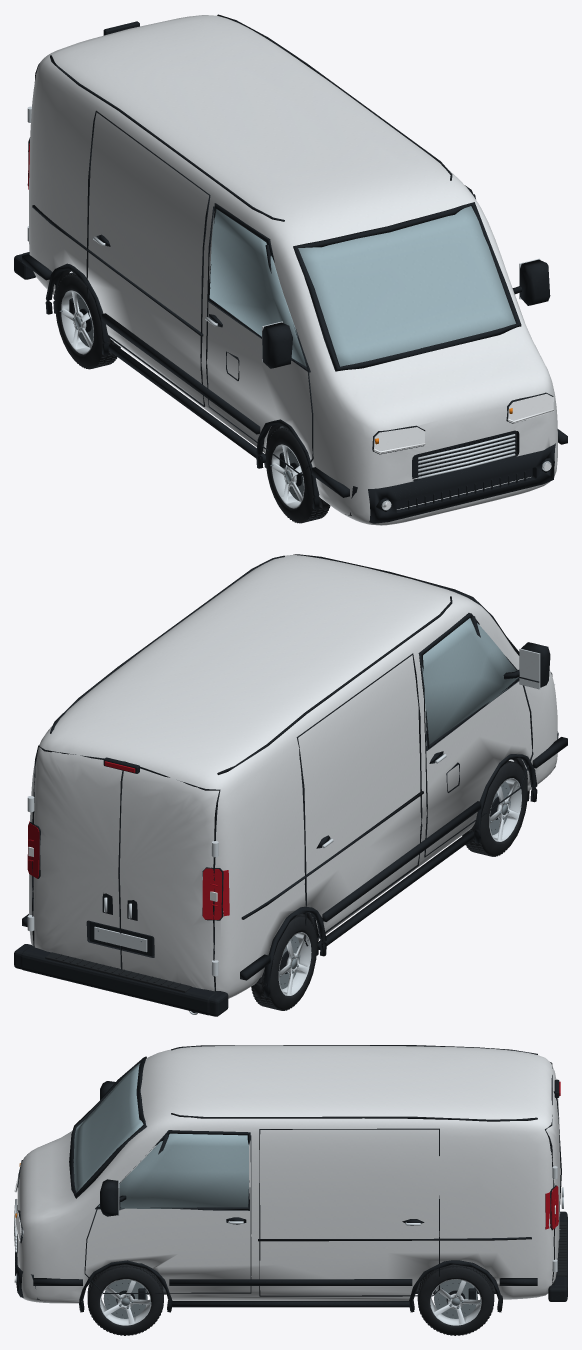
The model's file is van-lod0.glb.
3 views of the same model, one above another, from view 1: azimuth 30°, elevation 25°; view 2: azimuth 150°, elevation 25°; view 3: azimuth 270°, elevation 25° (orthographic). The views are drawn at different scales.
Parts seen in each view (by area): view 1: body_paint, body_glass.001, body_black.001, wheelpart_rubber.001 (×2), wheelpart_chrome (×2), body_chrome, body_clearlens; view 2: body_paint, body_black.001, body_glass.001, wheelpart_rubber.001 (×2), wheelpart_chrome (×2), body_chrome, body_redlens, body_rubber.001; view 3: body_paint, body_black.001, body_glass.001, wheelpart_rubber.001 (×2), wheelpart_chrome (×2), wheelpart_steel.001 (×2), body_rubber.001, body_chrome, body_redlens.
Boxes of the visible parts, bbox=[...] form: body_paint: bbox=[29, 15, 557, 525]; body_glass.001: bbox=[209, 206, 515, 366]; body_black.001: bbox=[14, 14, 567, 523]; wheelpart_rubber.001 (×2): bbox=[55, 273, 330, 523]; wheelpart_chrome (×2): bbox=[61, 290, 304, 508]; body_chrome: bbox=[27, 106, 551, 510]; body_clearlens: bbox=[373, 393, 553, 509]; body_paint: bbox=[29, 555, 557, 998]; body_black.001: bbox=[14, 554, 567, 1016]; body_glass.001: bbox=[422, 618, 518, 744]; wheelpart_rubber.001 (×2): bbox=[251, 760, 527, 1010]; wheelpart_chrome (×2): bbox=[278, 778, 521, 995]; body_chrome: bbox=[27, 648, 540, 1014]; body_redlens: bbox=[27, 761, 229, 919]; body_rubber.001: bbox=[45, 758, 529, 997]; body_paint: bbox=[17, 1045, 560, 1303]; body_black.001: bbox=[15, 1045, 567, 1312]; body_glass.001: bbox=[73, 1063, 248, 1208]; wheelpart_rubber.001 (×2): bbox=[87, 1264, 494, 1335]; wheelpart_chrome (×2): bbox=[100, 1279, 481, 1325]; wheelpart_steel.001 (×2): bbox=[103, 1279, 477, 1318]; body_rubber.001: bbox=[79, 1221, 567, 1310]; body_chrome: bbox=[14, 1166, 563, 1283]; body_redlens: bbox=[545, 1081, 560, 1229].
Bounding box in the file's own units: 2.6 × 2.5 × 5.68.
Materials: 10 (10 with a texture image).
